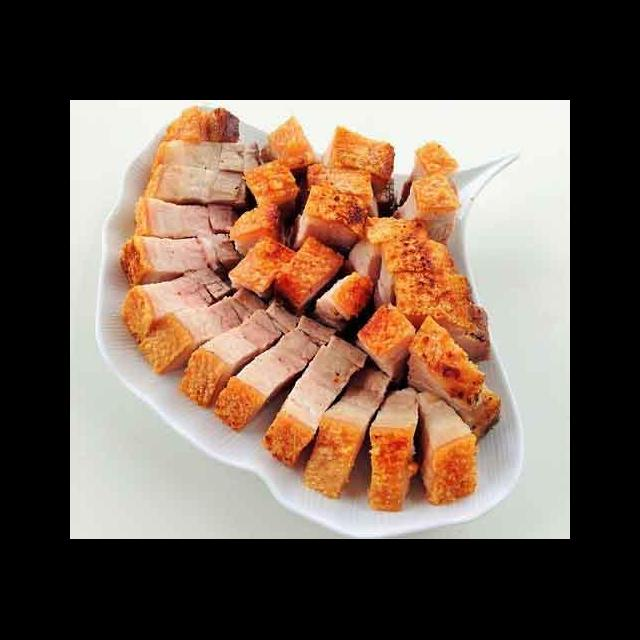thit heo quay: (342, 210, 495, 372), (209, 310, 338, 436), (176, 296, 308, 412), (259, 332, 369, 469), (134, 284, 277, 378), (299, 366, 390, 504), (118, 264, 237, 346), (405, 310, 491, 414), (411, 388, 484, 509), (114, 228, 246, 292), (362, 382, 425, 516), (395, 136, 463, 256), (318, 122, 399, 214), (271, 230, 349, 314), (293, 182, 378, 255), (138, 162, 255, 212), (353, 300, 421, 384), (130, 193, 246, 240), (148, 136, 266, 182), (225, 234, 300, 302), (255, 112, 322, 180), (225, 200, 293, 264), (158, 101, 245, 150), (309, 270, 377, 332), (239, 156, 303, 216)
